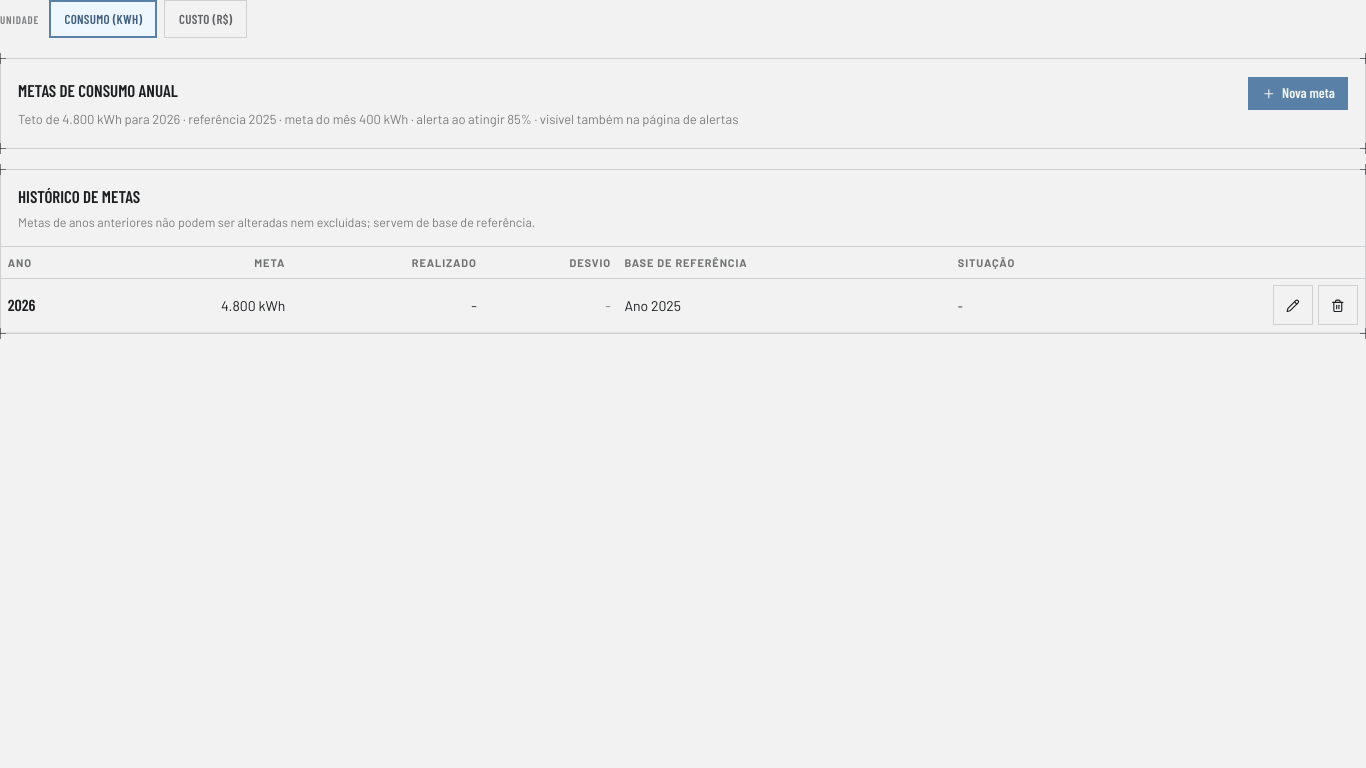
Test: GoalsPage — criar › cria a meta: o consumo específico preenche os 12 meses e o ano sugerido é o primeiro livre
Step 1. Click the button "Nova meta" → x=1298, y=93, box [1248,77,1348,110]
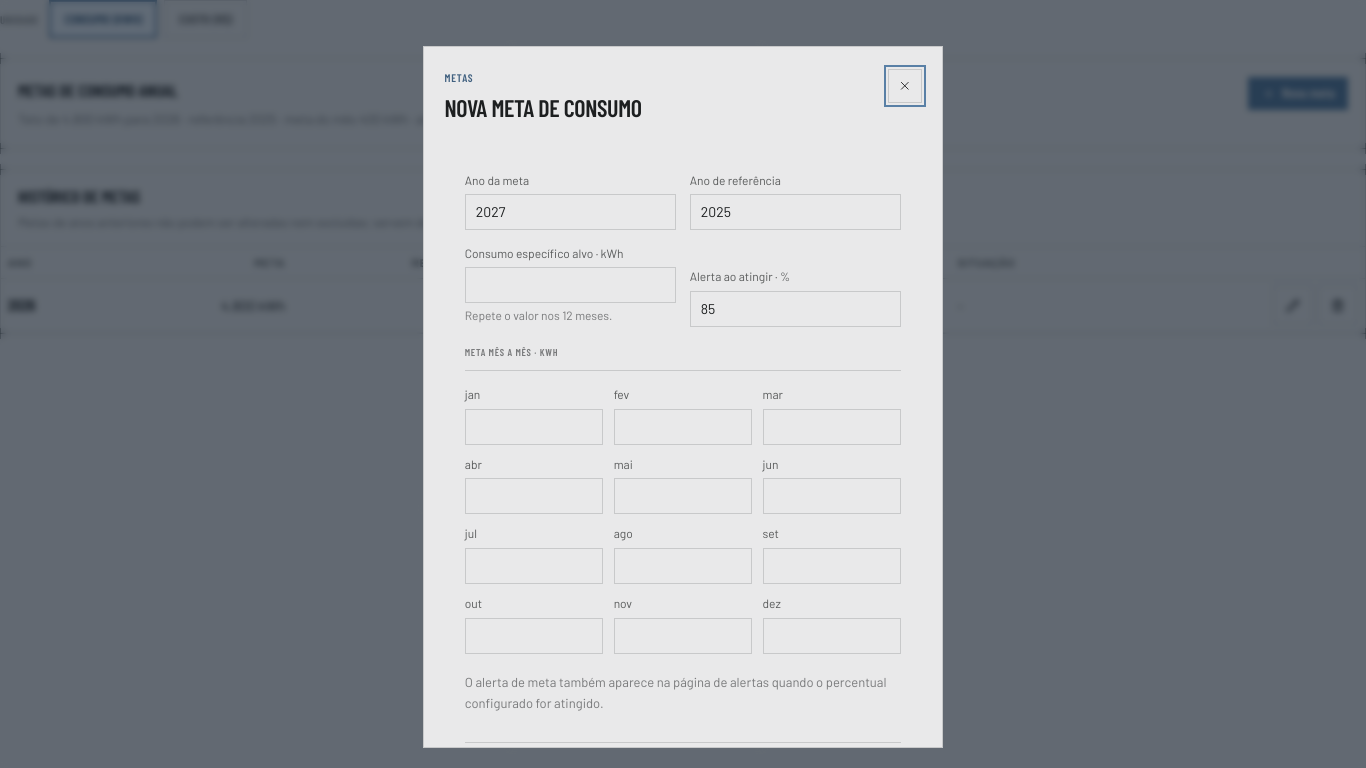
Check: the number field labelled "Ano da meta" holds "2027", box [465,194,676,230]
Check: the number field labelled "Ano de referência" holds "2025", box [690,194,901,230]
Step 2. Type "500" into the number field labelled "Consumo específico alvo · kWh" → x=570, y=285, box [465,267,676,303]
(page scrolled)
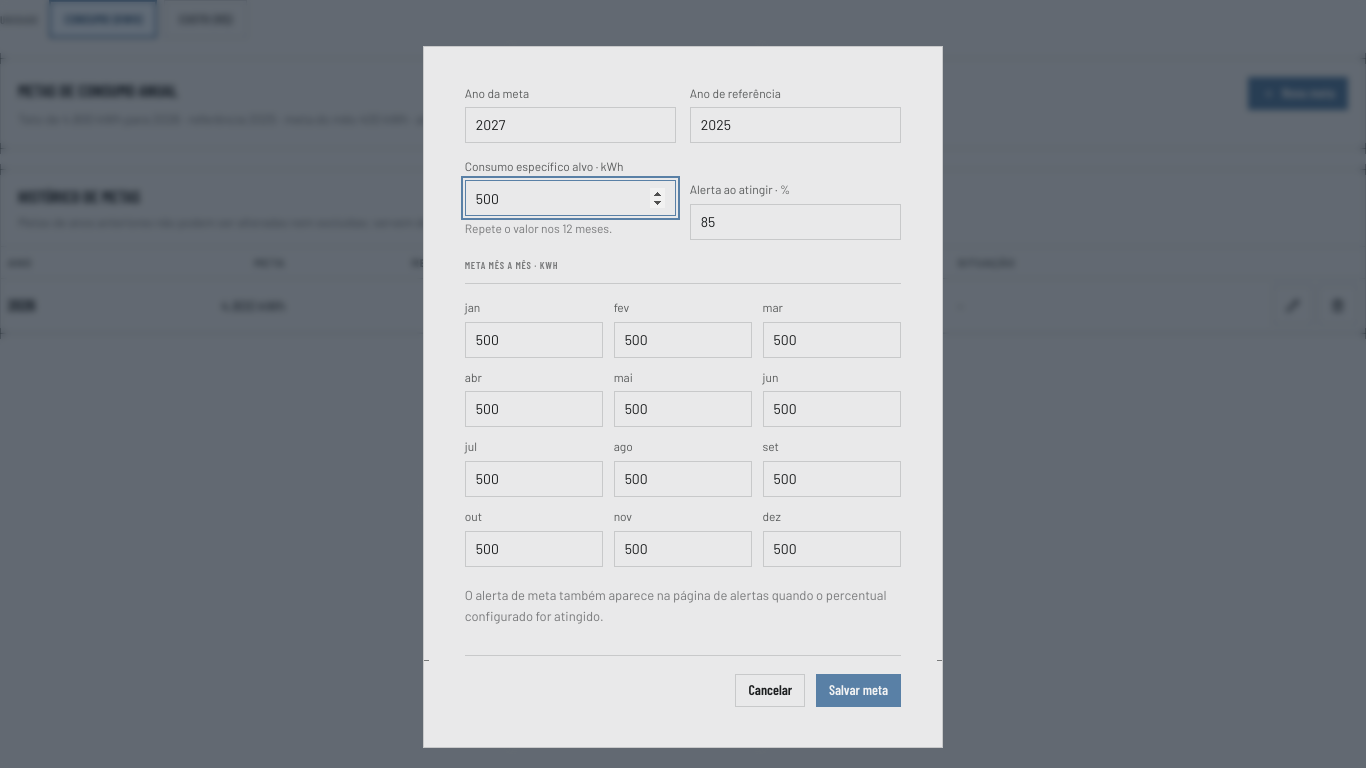
Check: the number field labelled "jan" holds "500", box [465,322,604,358]
Check: the number field labelled "dez" holds "500", box [762,531,901,567]
Step 3. Click the button "Salvar meta" → x=858, y=690, box [816,674,901,707]
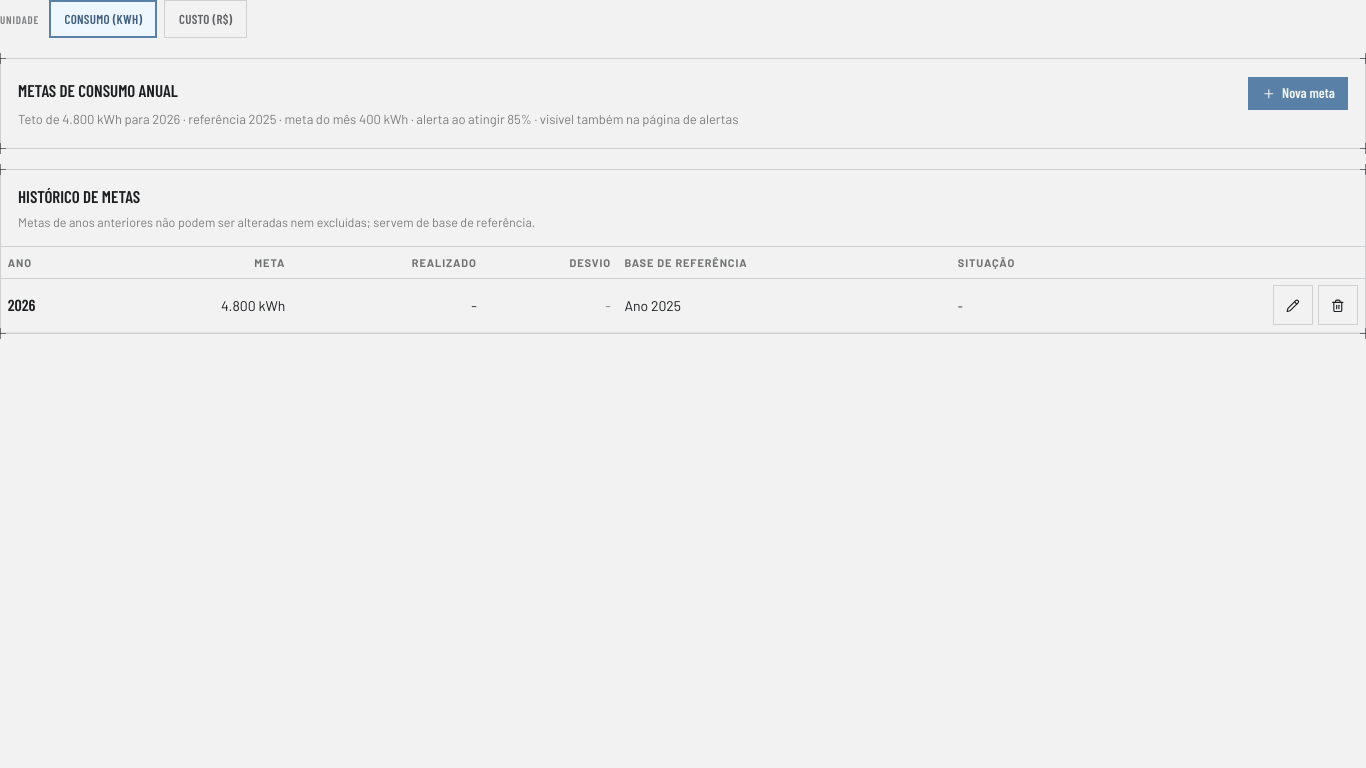
Check: the dialog is gone
